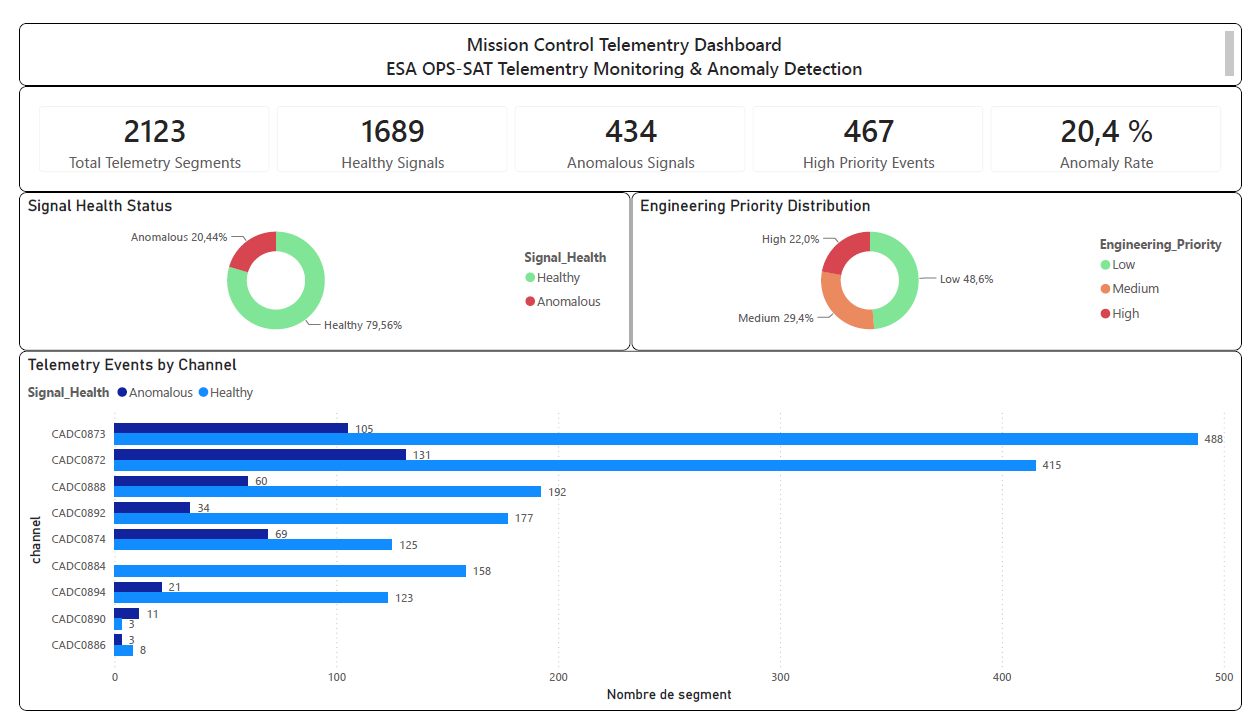

Layout of this report page (visuals, bound fields, positions):
{"tool":"powerbi","page":{"name":"Page 1","canvas":[1280,720],"ordinal":0},"visuals":[{"type":"cardVisual","fields":{"Data":["Telemetry_Feature_Engineered.Total Telemetry Segments","Telemetry_Feature_Engineered.Healthy Signals","Telemetry_Feature_Engineered.Anomalous Signals","Telemetry_Feature_Engineered.High Priority Events","Telemetry_Feature_Engineered.Anomaly Rate"]},"box":[0,66.2,1280,110.9],"z":0},{"type":"textbox","box":[0,0,1280,66.2],"z":1000},{"type":"donutChart","title":"Signal Health Status","fields":{"Y":["CountNonNull(Telemetry_Feature_Engineered.segment)"],"Category":["Telemetry_Feature_Engineered.Signal_Health"]},"box":[0,177.1,640.5,165.9],"z":2000},{"type":"donutChart","title":"Engineering Priority Distribution","fields":{"Category":["Telemetry_Feature_Engineered.Engineering_Priority"],"Y":["CountNonNull(Telemetry_Feature_Engineered.segment)"]},"box":[640.5,177.4,639.5,165.7],"z":3000},{"type":"clusteredBarChart","title":"Telemetry Events by Channel","fields":{"Category":["Telemetry_Feature_Engineered.channel"],"Y":["CountNonNull(Telemetry_Feature_Engineered.segment)"],"Series":["Telemetry_Feature_Engineered.Signal_Health"]},"box":[0,343.1,1280,377.1],"z":4000}]}

Visuals, with their boxes in screenshot pixels (x1, y1, x2, y2), scaled from the page's 1280x720 canvas onto the 1260x727 screenshot:
cardVisual - Telemetry_Feature_Engineered.Total Telemetry Segments x Telemetry_Feature_Engineered.Healthy Signals: 0, 67, 1259, 179
textbox: 0, 0, 1259, 67
"Signal Health Status" donutChart: 0, 179, 630, 346
"Engineering Priority Distribution" donutChart: 630, 179, 1259, 346
"Telemetry Events by Channel" clusteredBarChart: 0, 346, 1259, 726
